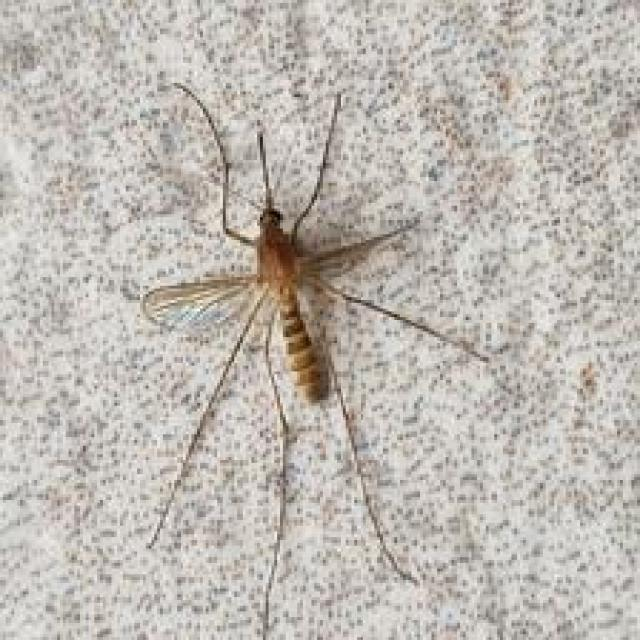Culex: (137, 80, 492, 629)
